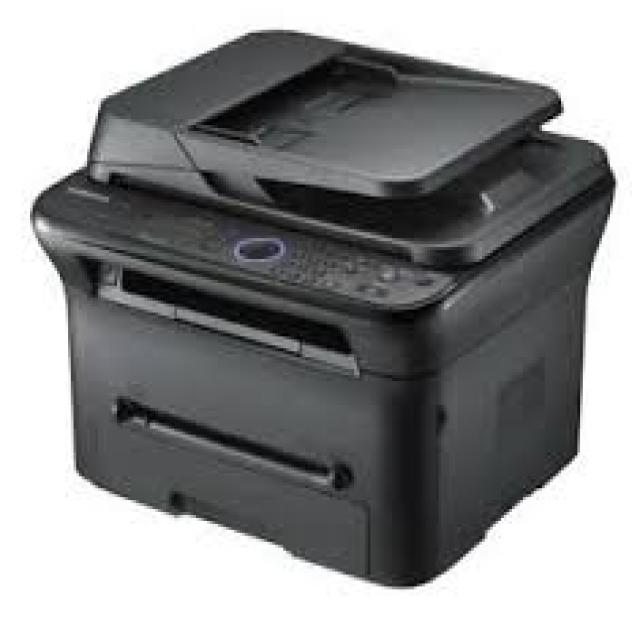printer: (21, 22, 622, 595)
